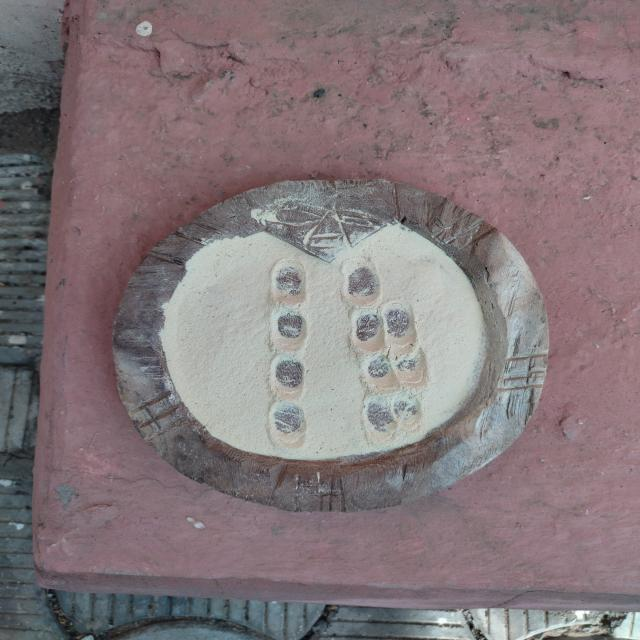double: (356, 392, 428, 448), (348, 300, 418, 352), (358, 346, 432, 390)
single: (262, 399, 314, 452), (336, 256, 384, 306), (262, 353, 310, 402), (267, 256, 310, 308), (267, 306, 308, 354)
